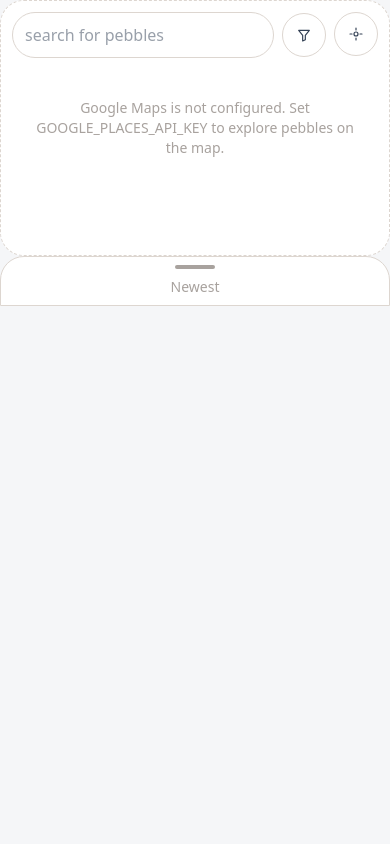
Test case: Map route › phone keeps search over the map and a collapsed feed sheet
This screenshot has width=390, height=844.
Expected: the text "Portland" is not shown
Expected: the text "Newest" is shown, left=170, top=277, right=219, bottom=297
Click the button with aria-label "Expand feed". click: [195, 281]
box: left=1, top=257, right=389, bottom=305
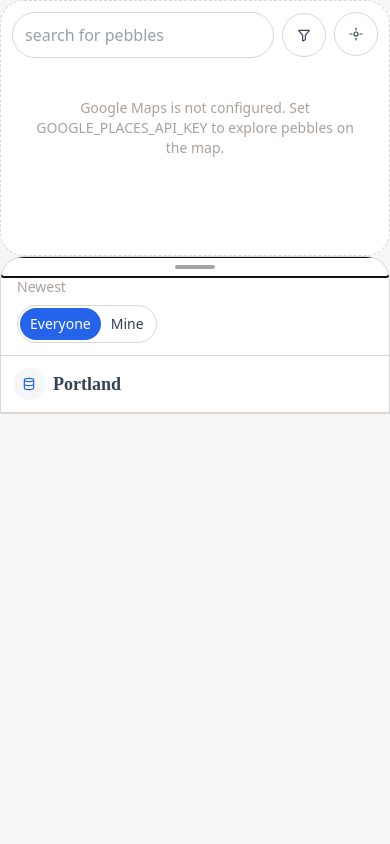
Expected: the heading "Portland" is shown, left=53, top=370, right=121, bottom=398
Expected: the button "Mine" is shown, left=101, top=308, right=154, bottom=340
Click the button named "Collapse feed". click: [195, 267]
box: left=1, top=257, right=389, bottom=277
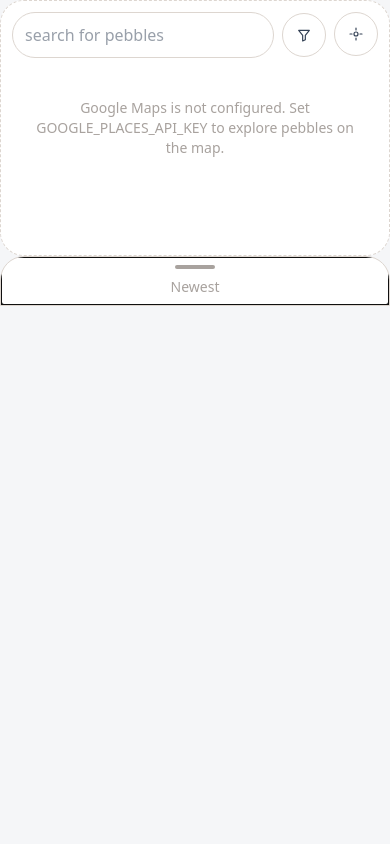
Expected: the link "Portland" is gone
